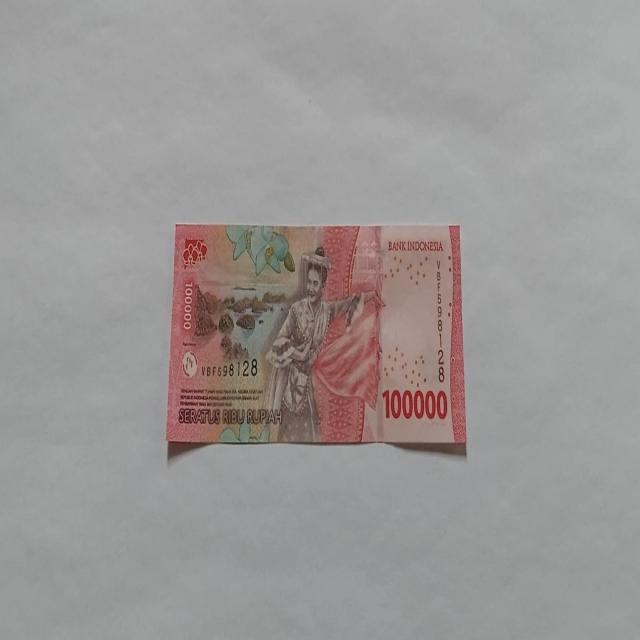seratus ribu rupiah: (166, 222, 467, 451), (260, 245, 374, 442)
